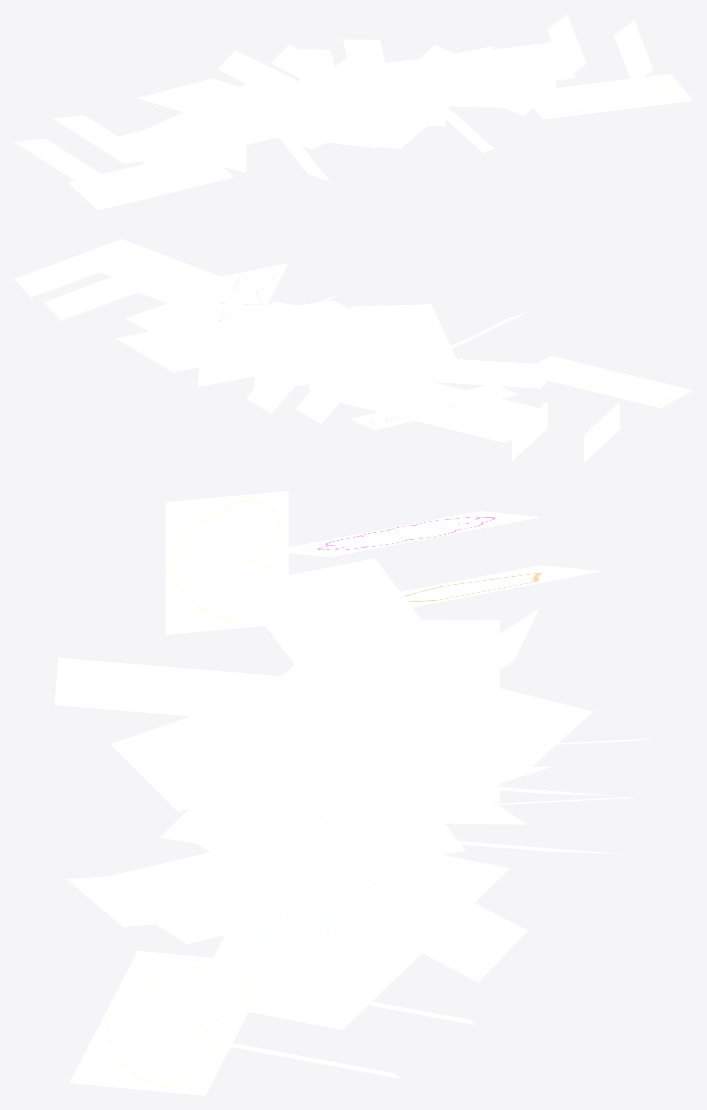
Rendered from light.glb.
3 renders of one model, top to bottom at view 1: azimuth 30°, elevation 25°; view 2: azimuth 150°, elevation 25°; view 3: azimuth 270°, elevation 25°, orthographic. The views are drawn at different scales.
Parts seen in each view (by area): view 1: 平面; view 2: 平面; view 3: 平面.
Boxes of the visible parts, <box> form: 平面: <box>14,14,692,210</box>; 平面: <box>14,239,692,462</box>; 平面: <box>54,491,651,1095</box>.
Size of the model in its own units: 14.77 by 1.06 by 6.45.
1 material, 1 textured.
